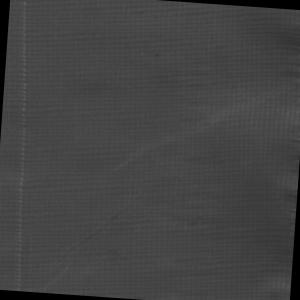Wrinkle: (104, 60, 299, 194), (25, 197, 139, 300)
